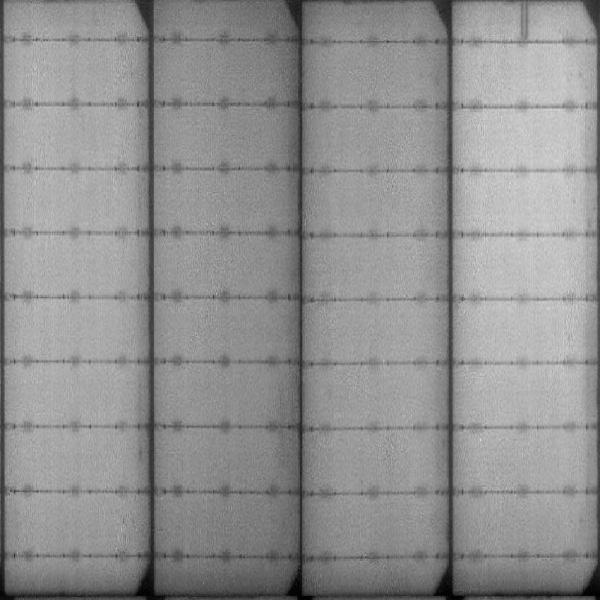scratch: (516, 3, 533, 36)
